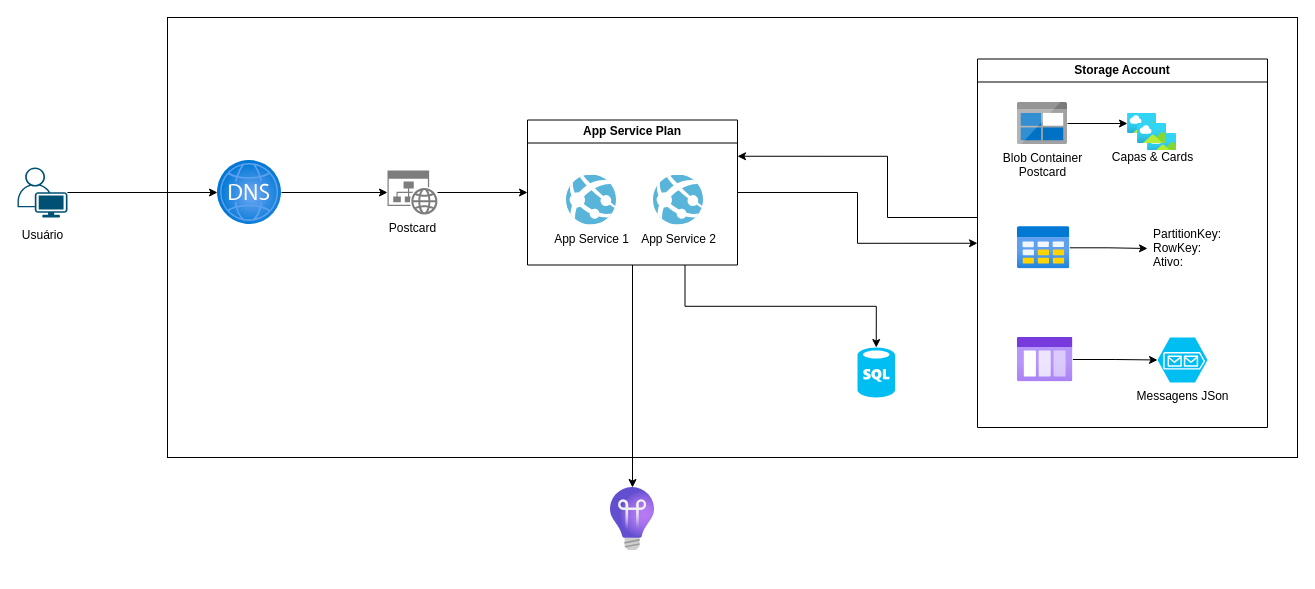
Image size: 1315x589. Some labels were removed from this diagram. The centre of each missing label's shape, as x and y in pixels:
"Application Insights" belongs at [632,518].
"Azure Queue Download Logs" belongs at [1044,359].
"Azure Table Toggle" belongs at [1043,247].
"DNS Zone augroberto.com.br" belongs at [249,192].
"Postcard DB" belongs at [875,372].
